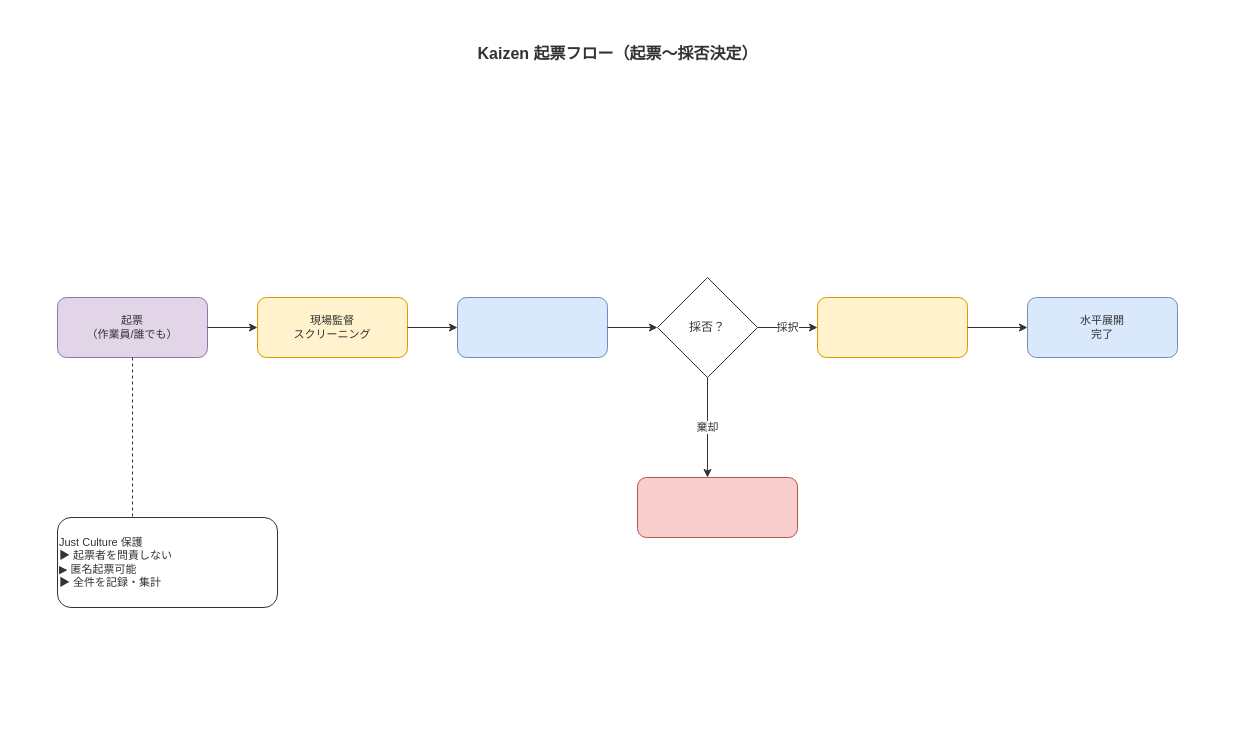
This 1234x734 diagram has some shape labels left out. Here are the shapes that lost their labels. From the top down, the centre of each, then its label:
At point (532, 327): "品質担当 評価".
At point (892, 327): "マスタ改訂 連動".
At point (717, 507): "棄却 起票者フィードバック".
